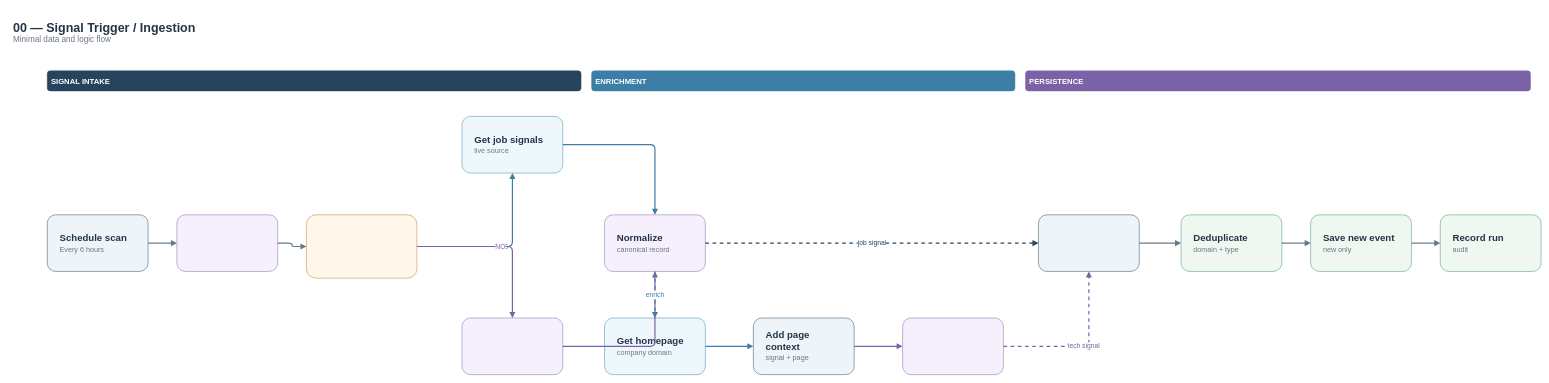
This 1549x383 diagram has some shape labels left out. Here are the shapes that lost their labels. From the top down, the centre of each, then its label:
(227,242): Read mode live / fixture
(361,246): Live mode? route by mode
(1088,242): Combine signals append
(512,346): Sample signals fixture source
(952,346): Detect tech signal from homepage
